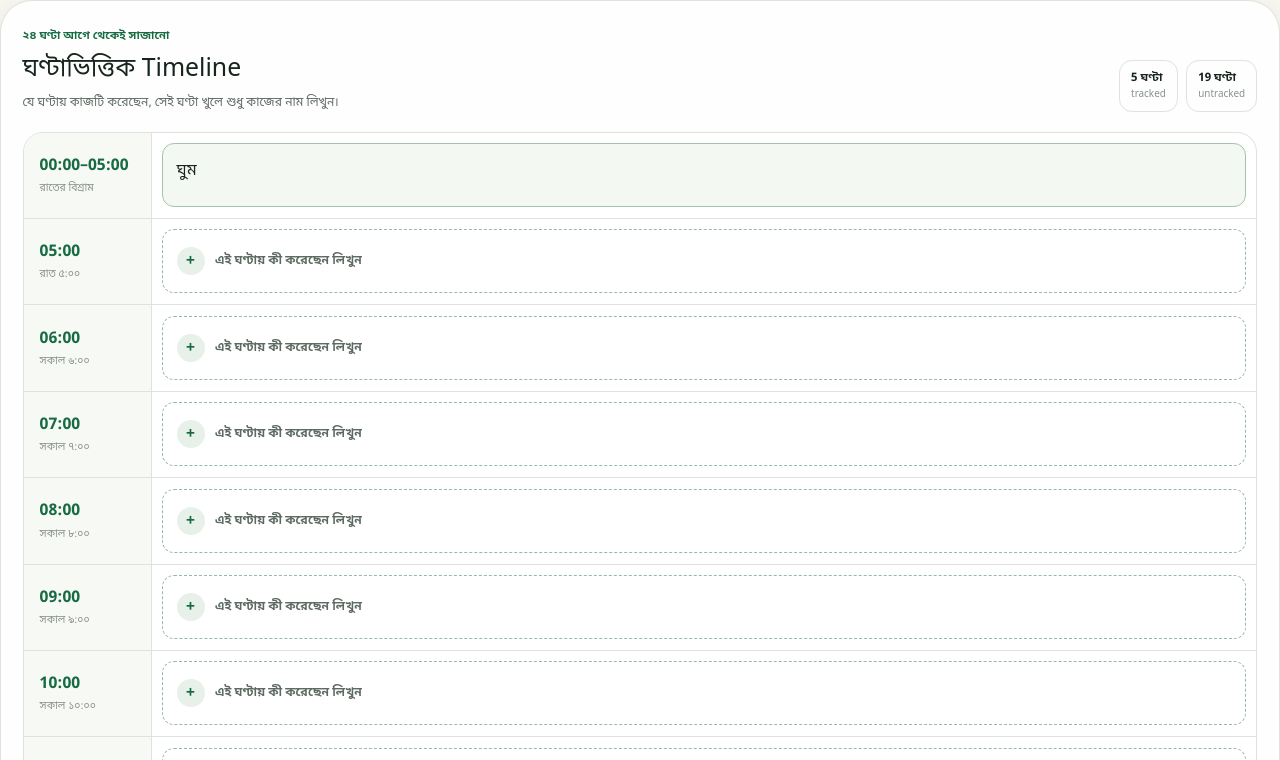
Test case: HourlyTimeline › renders every hour and prefills work from that time's history
Expected: the text "00:00–05:00" is shown, [40, 154, 135, 178]
Expected: the heading "ঘুম" is shown, [177, 160, 197, 182]
Click the heading "+ এই ঘণ্টায় কী করেছেন লিখুন" next to "সকাল ১০:০০". click: (288,693)
box: [162, 661, 1246, 725]
(page scrolled)
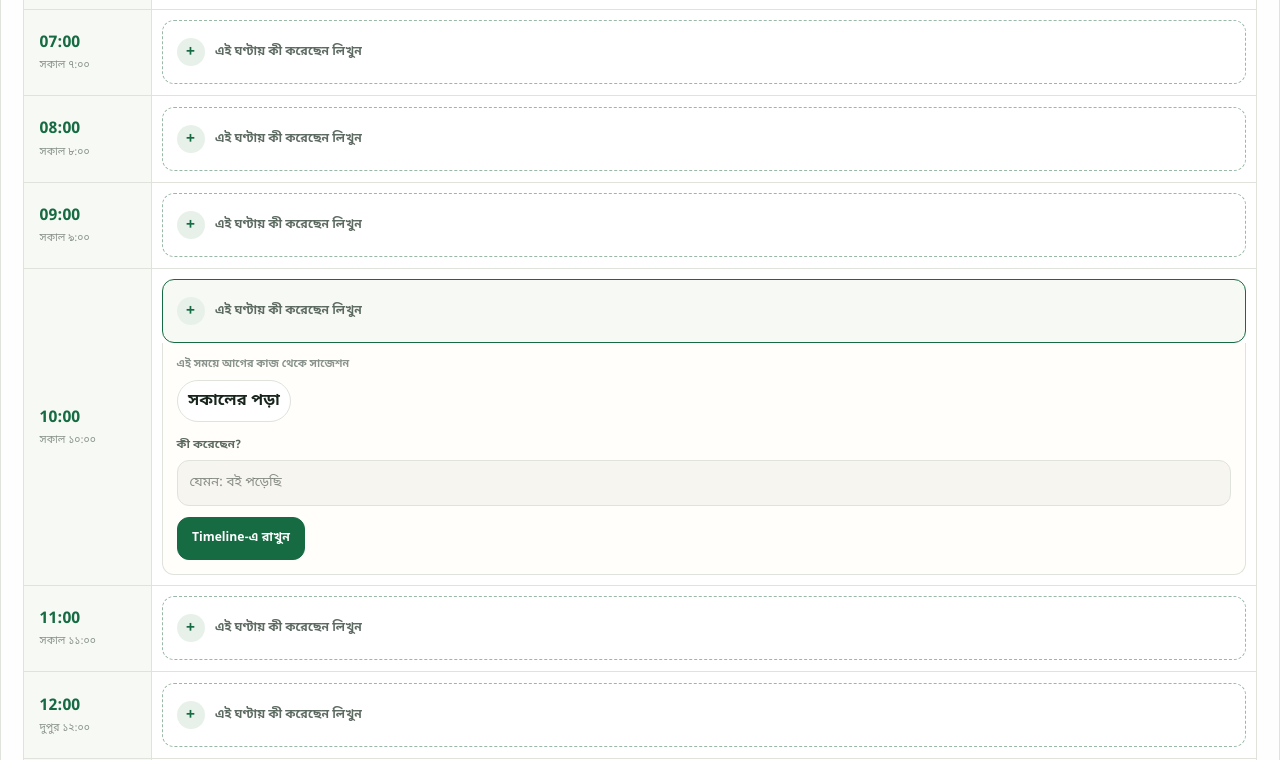
Click the button "সকালের পড়া". click: (234,401)
box: [177, 380, 291, 422]
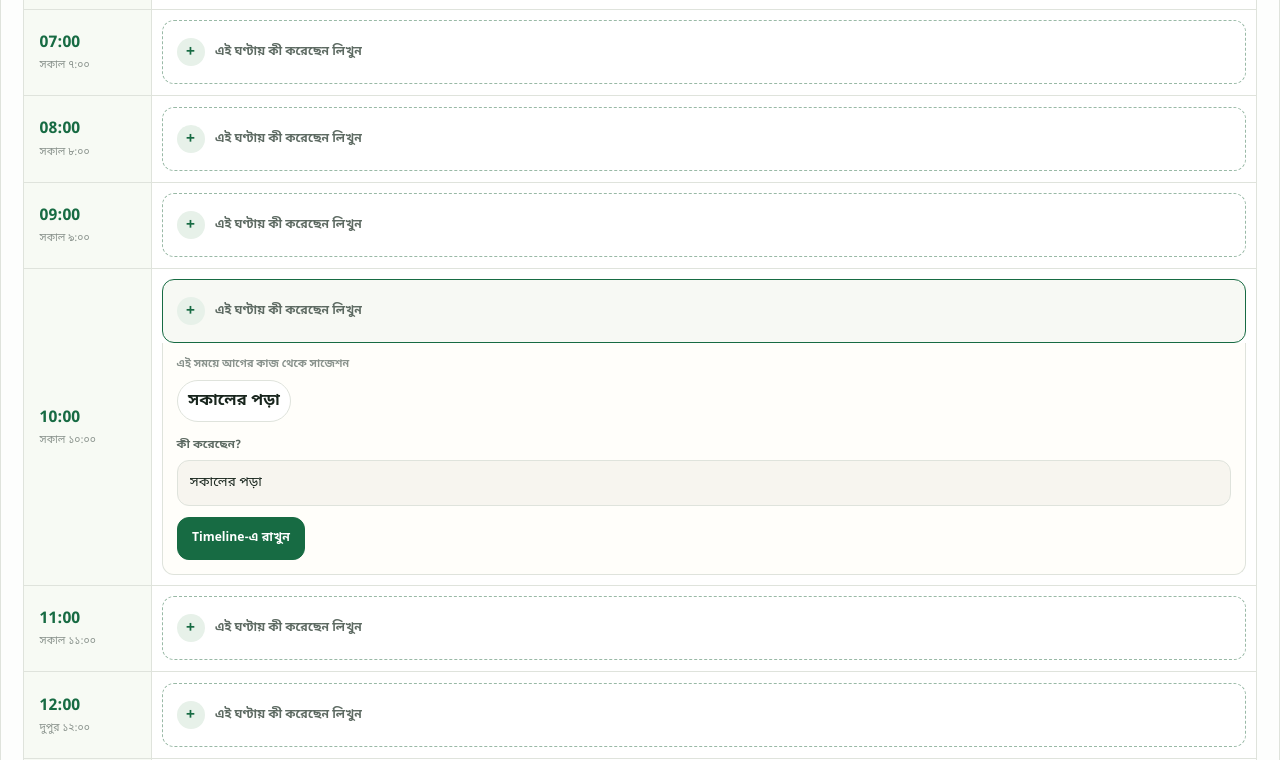
Now the form named "startTime" holds "10:00", box [162, 343, 1246, 574]
Now the form named "category" holds "শেখা", box [162, 343, 1246, 574]
Now the field labelled "কী করেছেন?" holds "সকালের পড়া", box [177, 460, 1231, 506]
